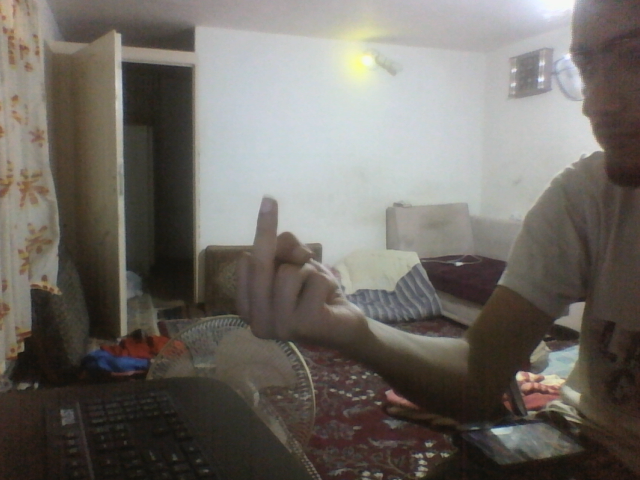fuck: (232, 195, 356, 369)
sorat: (566, 2, 636, 189)
